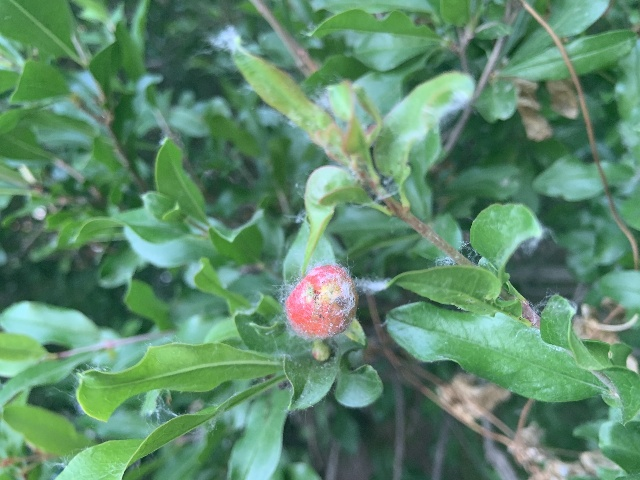bud: (286, 264, 358, 338)
